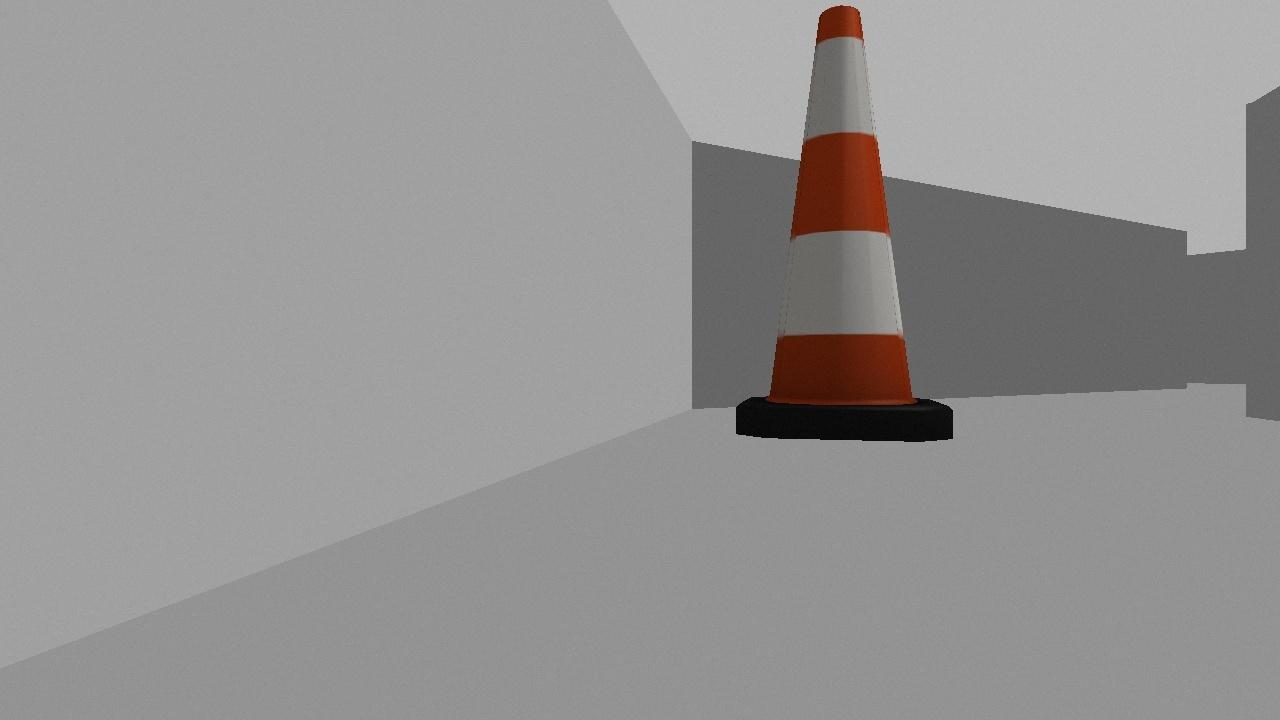cone_barrel: (732, 1, 955, 442)
